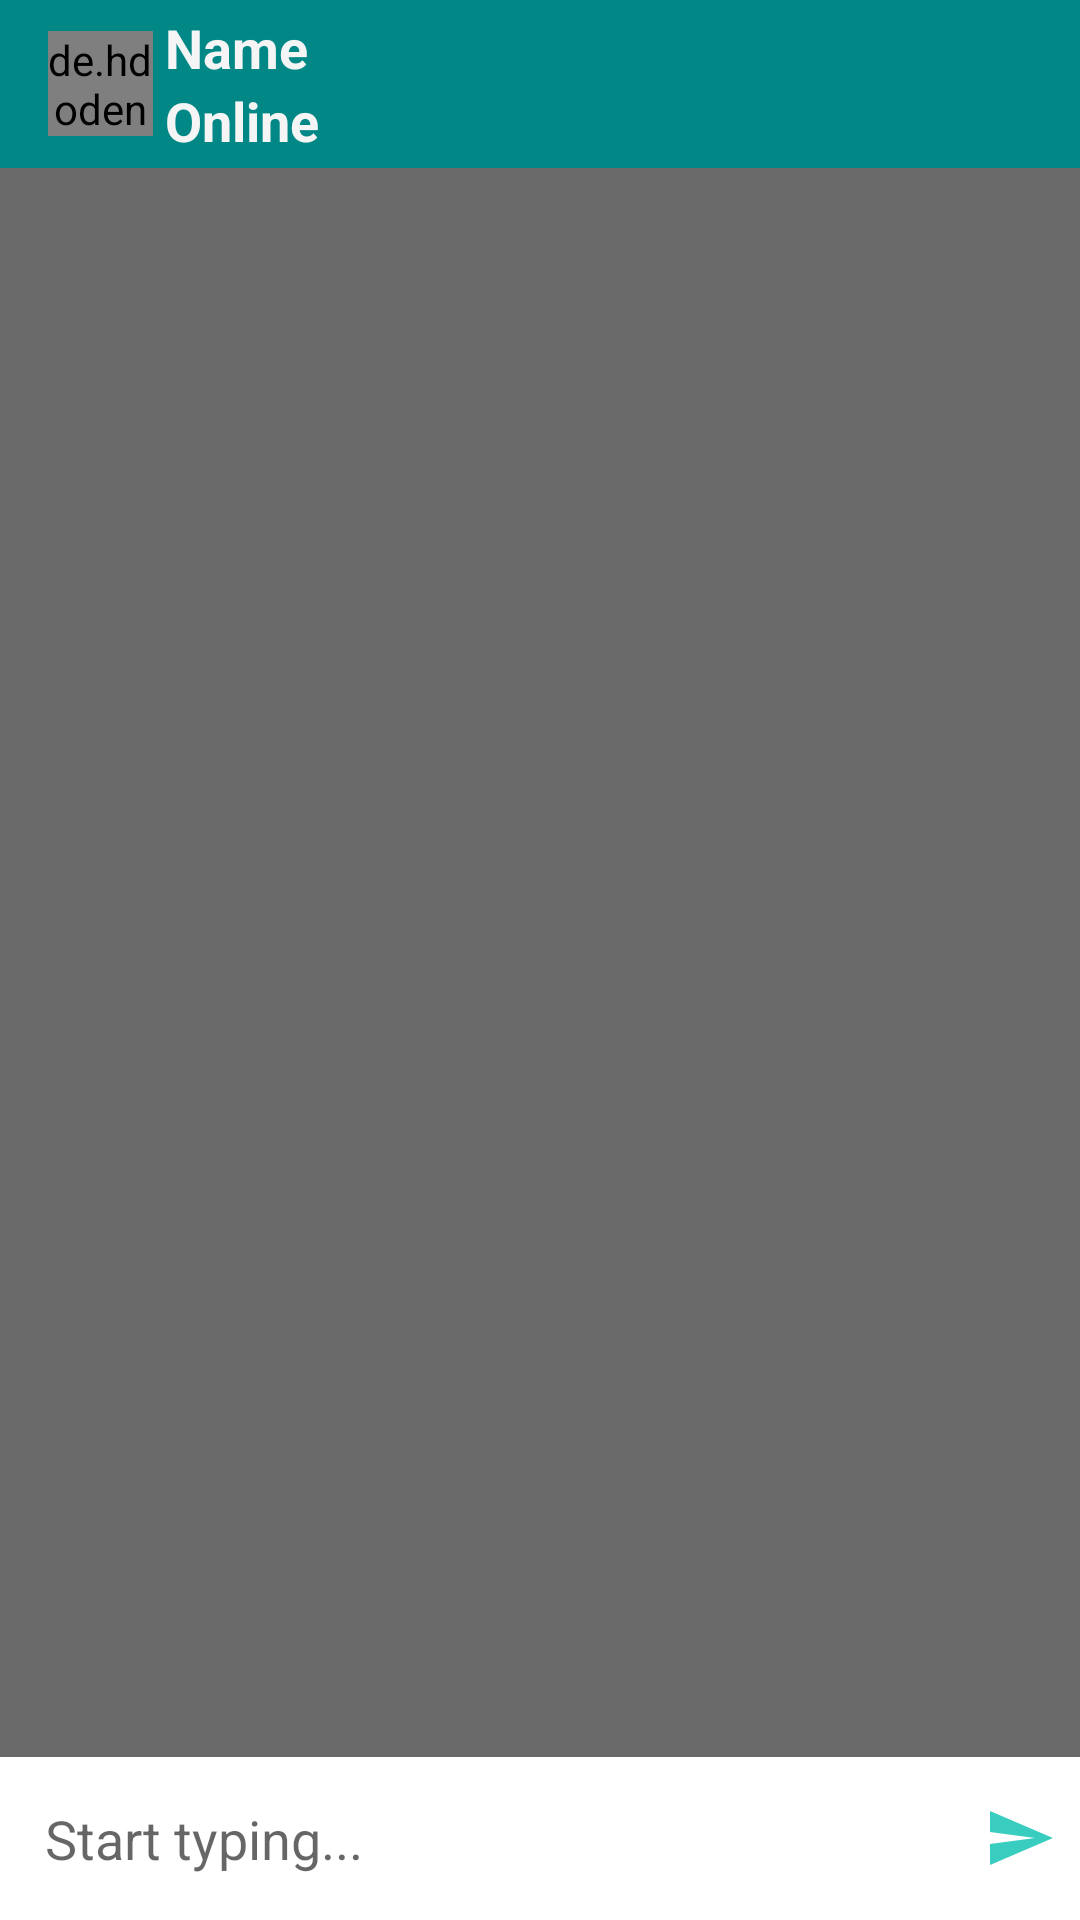

Point at icon controls on the screen. Image size 1080px x 1920px, points as [x,y].
send: [1021,1838]
